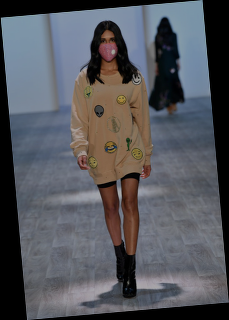with_mask: (97, 35, 119, 63)
